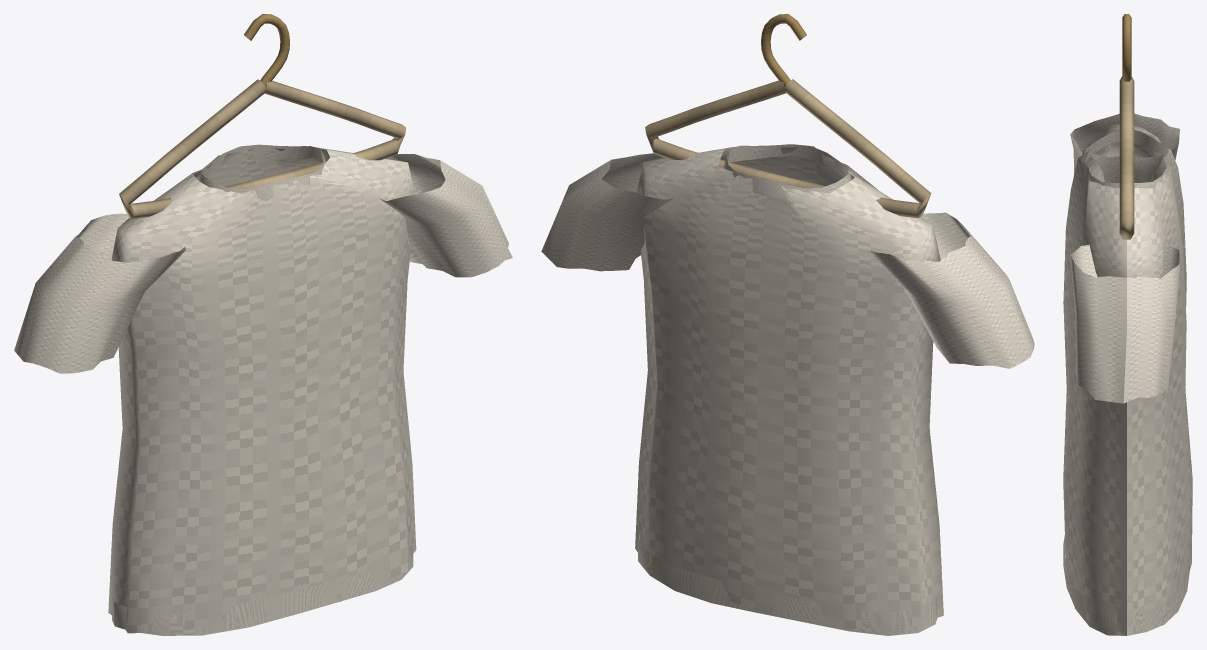
3 renders of one model, left to right at view 1: azimuth 30°, elevation 25°; view 2: azimuth 150°, elevation 25°; view 3: azimuth 270°, elevation 25°, orthographic. The views are drawn at different scales.
Visible parts, largest first — view 1: fabric_cream, ash_grain, aged_brass; view 2: fabric_cream, ash_grain, aged_brass; view 3: fabric_cream, ash_grain, aged_brass.
Boxes of the visible parts, <box> form: fabric_cream: <box>14,144,512,635</box>; ash_grain: <box>119,79,406,218</box>; aged_brass: <box>244,14,289,87</box>; fabric_cream: <box>541,144,1034,635</box>; ash_grain: <box>645,79,931,218</box>; aged_brass: <box>761,14,806,87</box>; fabric_cream: <box>1063,113,1192,635</box>; ash_grain: <box>1119,76,1134,239</box>; aged_brass: <box>1122,14,1131,81</box>.
Size of the model in its own units: 0.7987 by 0.9111 by 0.192.
Materials: 3 (2 with a texture image).
